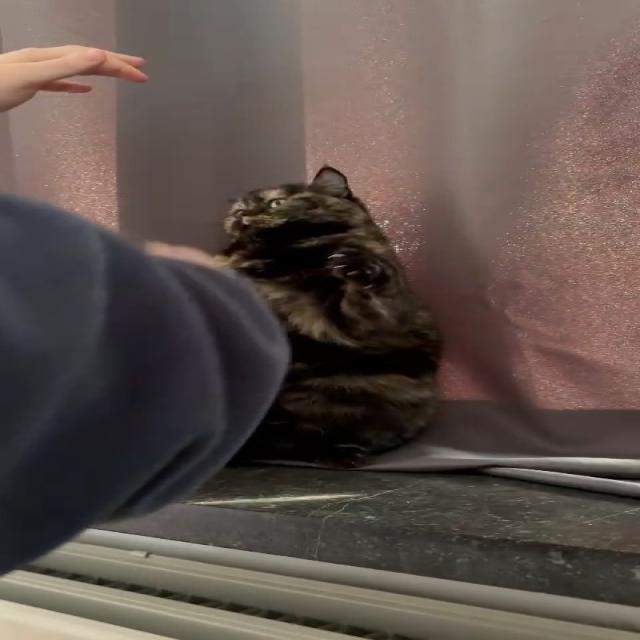authorized: (211, 164, 444, 468)
